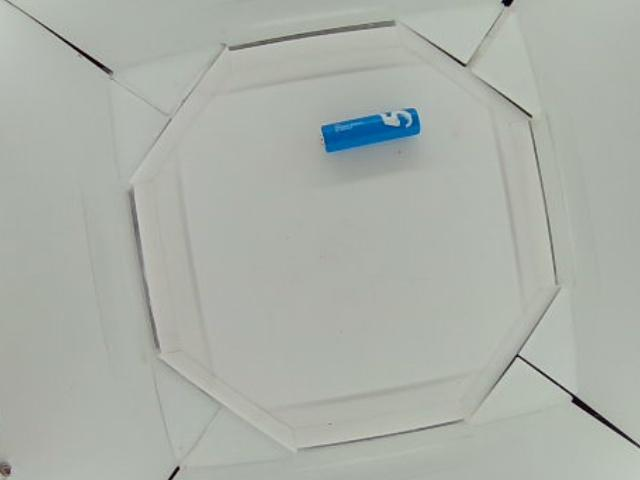Battery: (321, 106, 423, 152)
